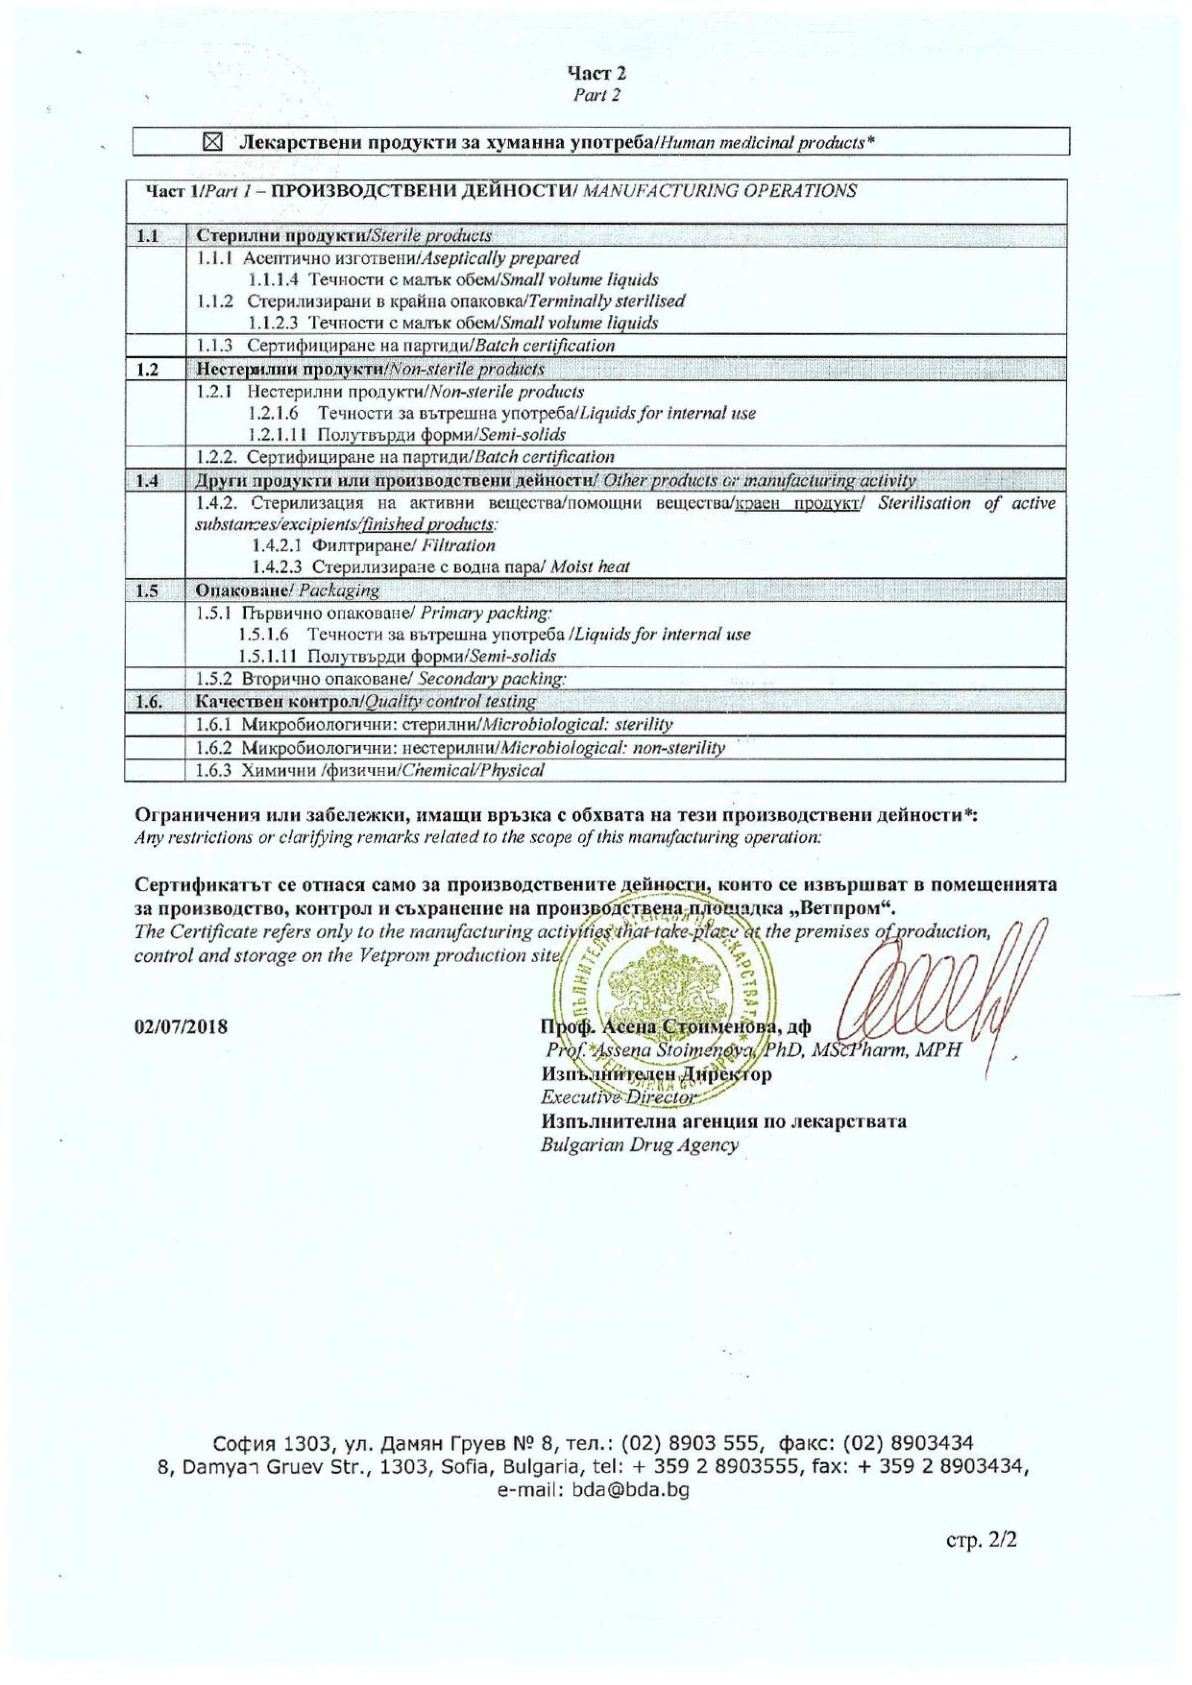merged_cells: (124, 177, 1068, 783)
